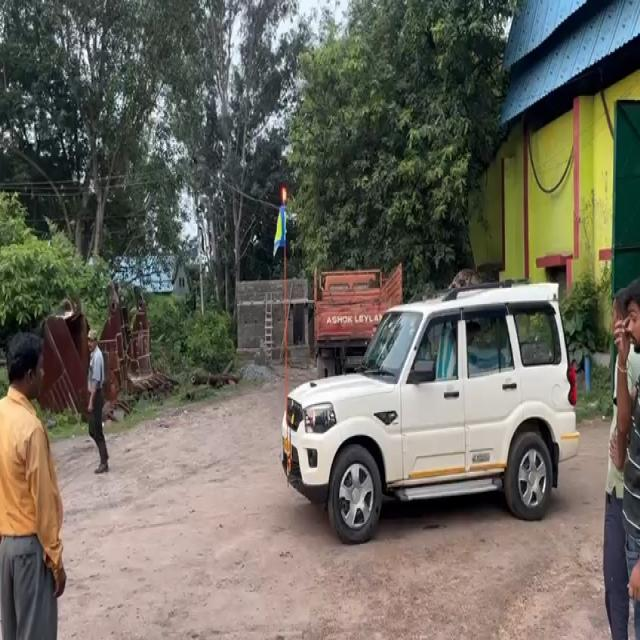light_vehicle: (282, 296, 574, 522)
